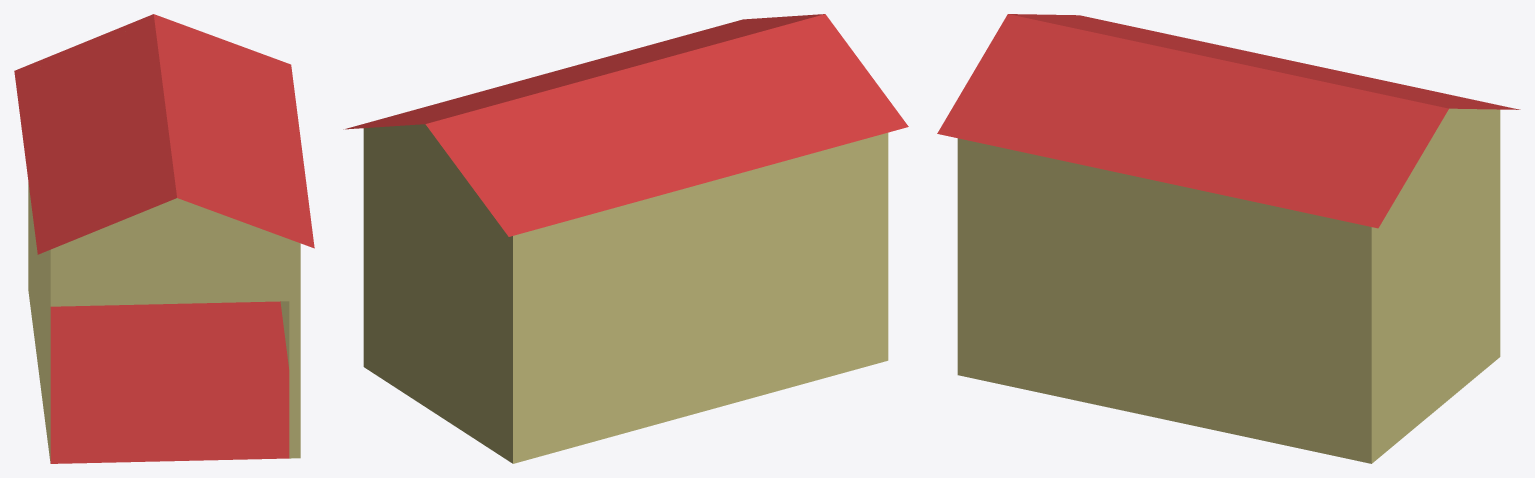
3 views of the same model, side by side, from view 1: azimuth 30°, elevation 25°; view 2: azimuth 150°, elevation 25°; view 3: azimuth 270°, elevation 25° (orthographic). The views are drawn at different scales.
Size of the model in its own units: 16.49 by 19.07 by 11.
